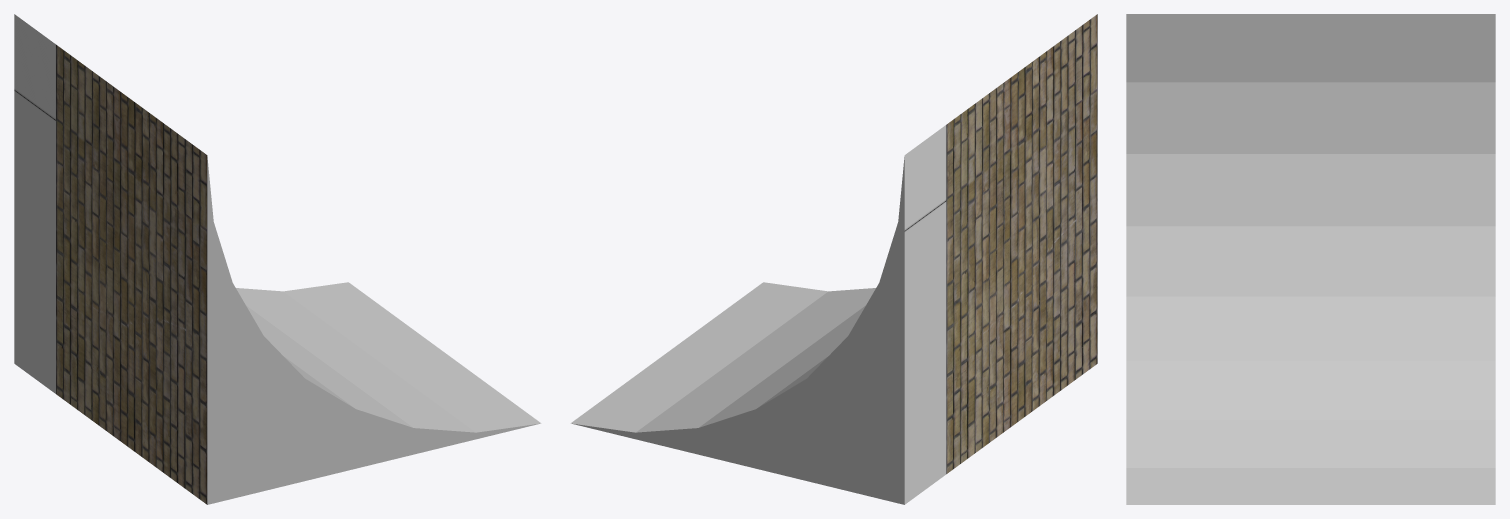
Rendered from round_ramp_02.obj.
3 renders of one model, left to right at view 1: azimuth 30°, elevation 25°; view 2: azimuth 150°, elevation 25°; view 3: azimuth 270°, elevation 25°, orthographic. The views are drawn at different scales.
Parts seen in each view (by area): view 1: Cube; view 2: Cube; view 3: Cube.
Boxes of the visible parts, x1,y1,x2,y2 form: Cube: (14, 14, 541, 504); Cube: (570, 14, 1097, 504); Cube: (1126, 14, 1495, 504).
Size of the model in its own units: 5 by 5 by 5.
